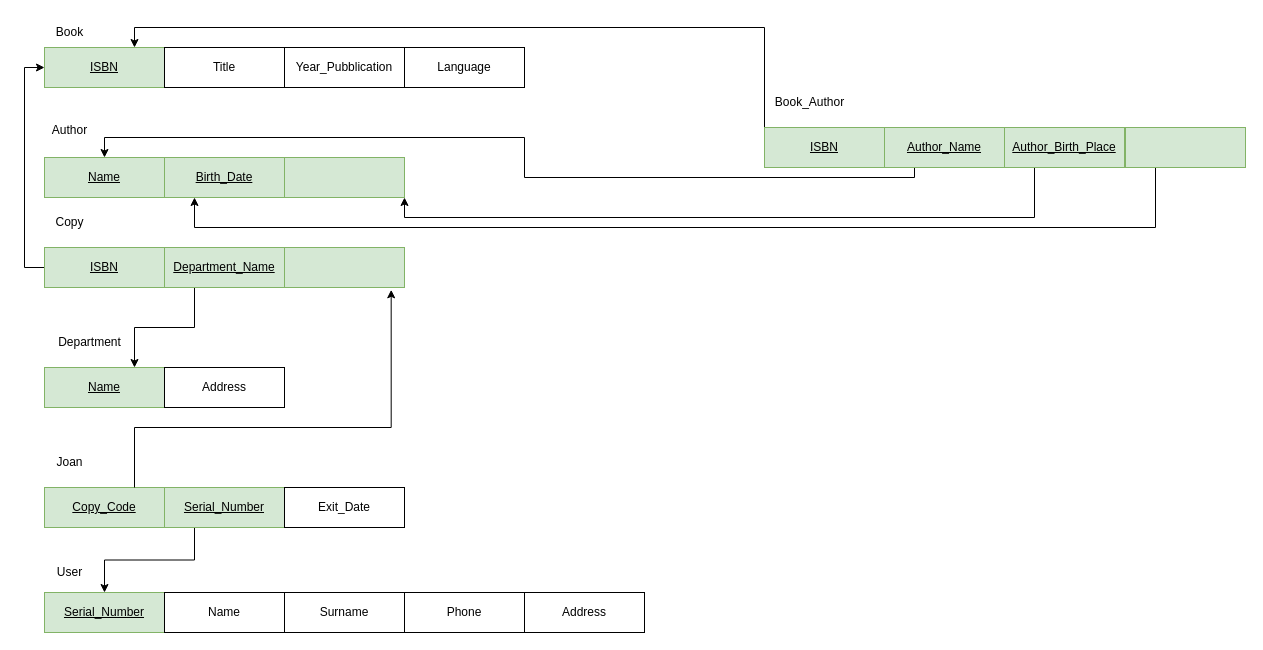
Some shapes in this 1263 by 650 pixel diagram are drawn without their labels. Here are the shapes that lost their labels. From the top down, the centre of each, then its label:
(1185,147): Author_Birth_Date
(344,177): Birth_Place
(344,267): Code
